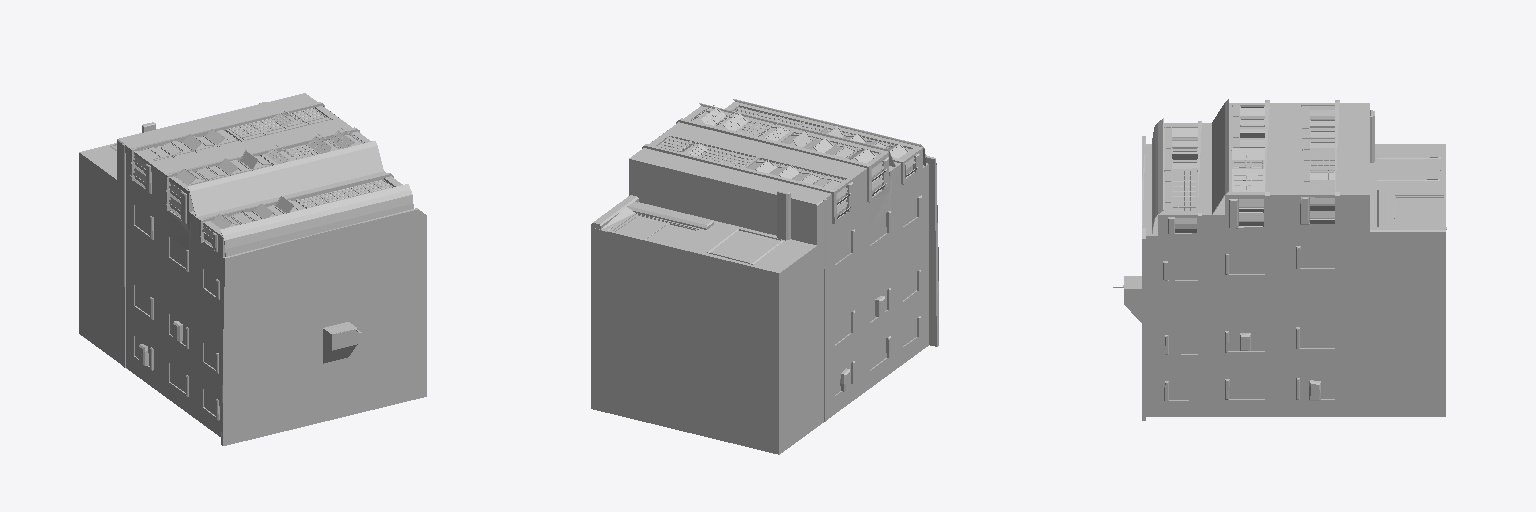
File: b2_ready.obj
3 renders of one model, left to right at view 1: azimuth 30°, elevation 25°; view 2: azimuth 150°, elevation 25°; view 3: azimuth 270°, elevation 25°, orthographic.
Visible parts, largest first — view 1: Plane.066; view 2: Plane.066; view 3: Plane.066.
Boxes of the visible parts, box(x1,y1,x2,y2) form: Plane.066: box(79, 93, 426, 445); Plane.066: box(591, 99, 938, 454); Plane.066: box(1113, 99, 1446, 420).
Bounding box in the file's own units: 10.98 × 11.88 × 15.64.